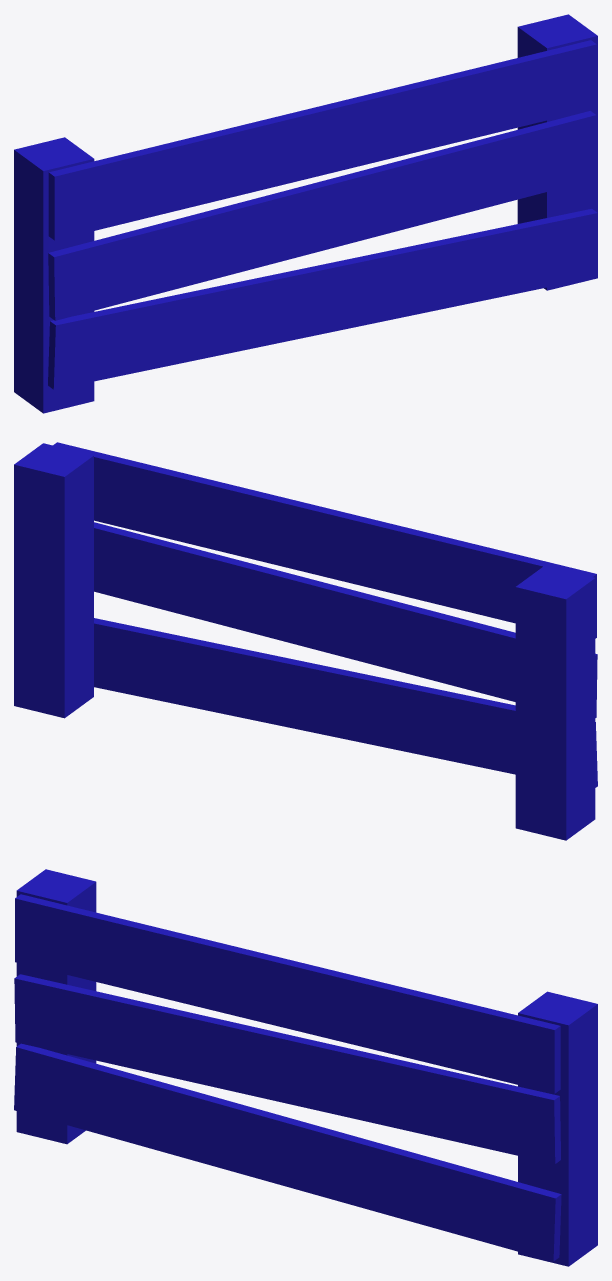
The model's file is Fence_V1.fbx.
3 renders of one model, top to bottom at view 1: azimuth 30°, elevation 25°; view 2: azimuth 150°, elevation 25°; view 3: azimuth 330°, elevation 25°, orthographic.
Visible parts, largest first — view 1: Bearicade_low; view 2: Bearicade_low; view 3: Bearicade_low.
Part boxes in pixels (<box>): Bearicade_low: <box>14,14,597,413</box>; Bearicade_low: <box>14,442,597,840</box>; Bearicade_low: <box>14,869,597,1266</box>.
Bounding box in the file's own units: 85.77 × 35.83 × 9.6.
